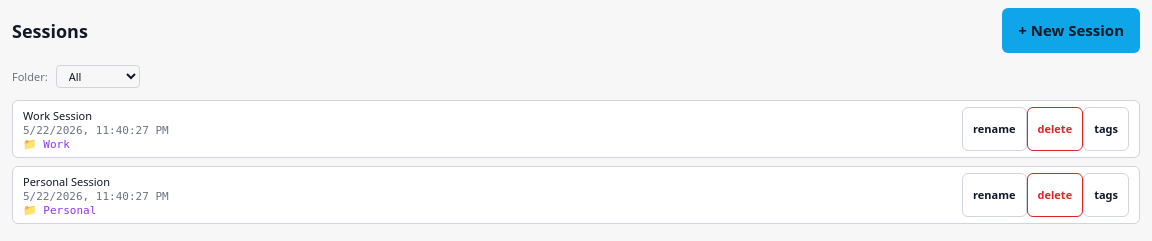
it: Session tags › filters sessions by selected folder
Check: the text "Work Session" is shown, box [23,108,92,122]
Check: the text "Personal Session" is shown, box [23,174,110,188]
Select "Work" folder
Select "Work" in the dropdown: (98, 76) [56,65,140,88]
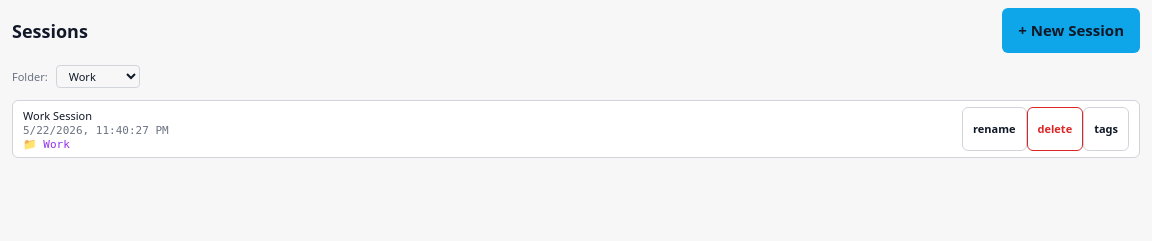
Check: the text "Work Session" is shown, box [23,108,92,122]
Check: the link "Personal Session" is gone
